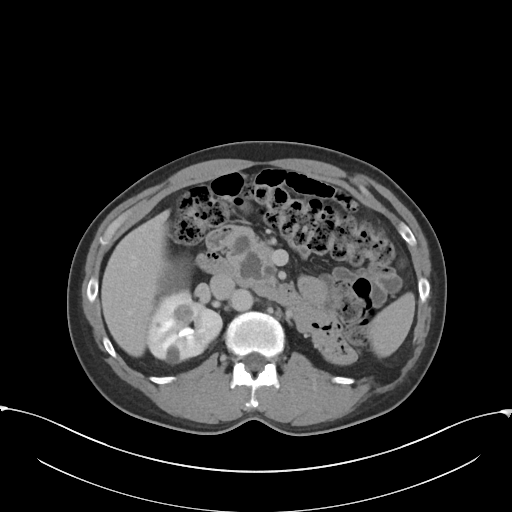Lesion: (170, 304, 196, 327)
